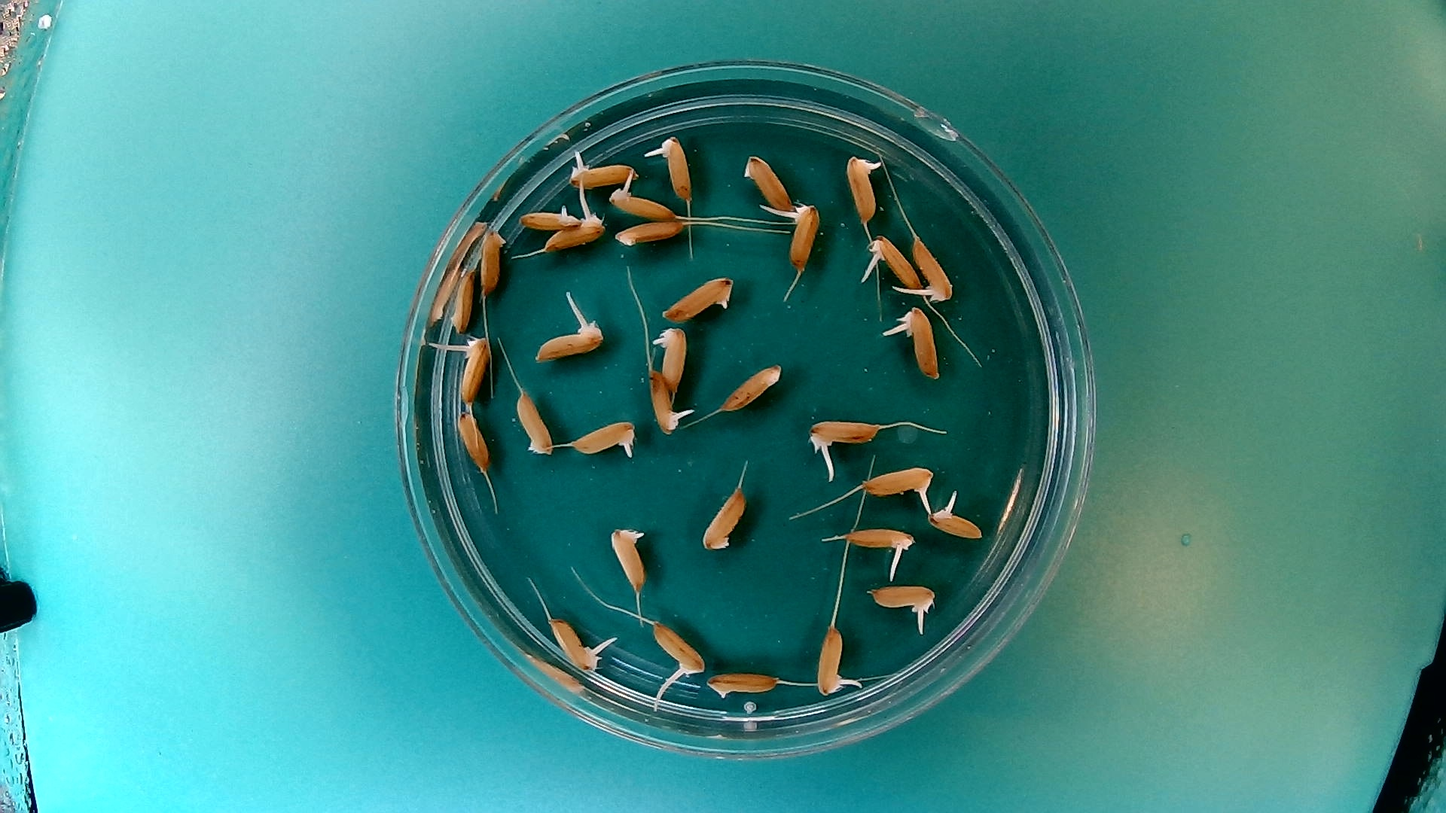no: (657, 270, 737, 323), (698, 480, 749, 554), (739, 151, 795, 212), (721, 361, 785, 413), (512, 388, 554, 457), (609, 216, 688, 251), (705, 668, 784, 702), (456, 412, 493, 477), (479, 226, 511, 296), (449, 265, 474, 336)
yes: (892, 304, 942, 382), (804, 413, 886, 460), (649, 617, 706, 679), (865, 230, 924, 289), (860, 461, 938, 504), (549, 616, 606, 674), (912, 232, 956, 306), (451, 330, 492, 408), (529, 318, 603, 361), (645, 366, 691, 435), (566, 416, 638, 460), (844, 151, 886, 224), (813, 623, 853, 698), (606, 178, 679, 219), (609, 522, 650, 592), (544, 209, 609, 252), (651, 322, 688, 393), (564, 153, 639, 188), (786, 199, 823, 269), (866, 582, 941, 613), (660, 134, 694, 201), (841, 524, 919, 553), (925, 504, 987, 540), (517, 199, 582, 233)
